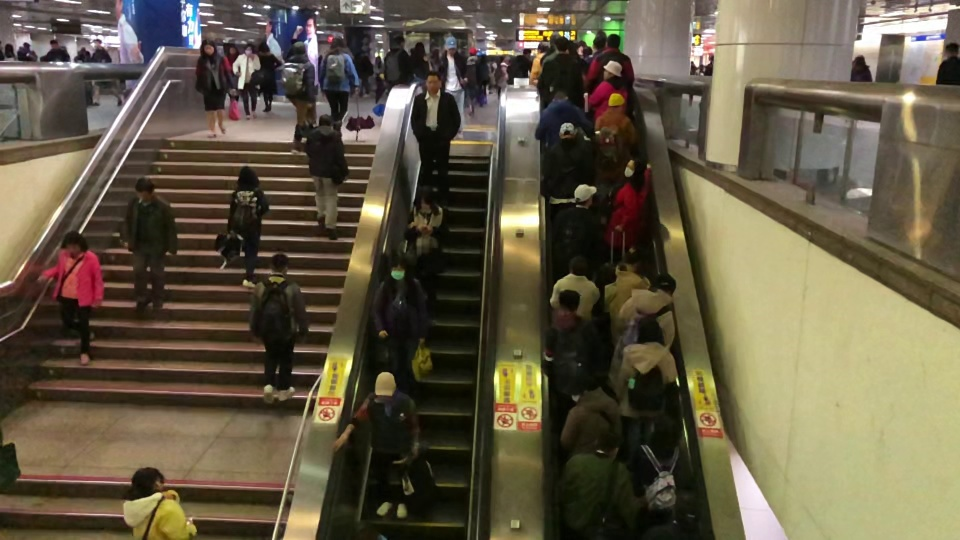person_head: (128, 465, 165, 494), (673, 490, 703, 524), (648, 413, 679, 439), (372, 370, 398, 400), (635, 316, 662, 344), (386, 249, 409, 279), (650, 270, 676, 294), (572, 183, 598, 206), (133, 176, 156, 201), (558, 289, 580, 313), (236, 164, 259, 186), (580, 368, 601, 391), (62, 231, 86, 251), (414, 185, 433, 210), (270, 252, 289, 275), (623, 157, 644, 177), (425, 69, 442, 93), (601, 60, 622, 79), (630, 250, 649, 271), (569, 255, 587, 276), (607, 92, 625, 109), (559, 122, 576, 139), (201, 38, 215, 57), (554, 36, 568, 54), (290, 40, 306, 55), (317, 112, 332, 127), (606, 34, 621, 49), (592, 36, 606, 51), (943, 42, 958, 56), (444, 36, 456, 53), (330, 34, 344, 48), (391, 34, 405, 48), (551, 88, 566, 101), (852, 54, 865, 67), (413, 41, 424, 56), (581, 45, 592, 57), (258, 43, 269, 54), (243, 43, 253, 55), (521, 47, 531, 57), (50, 38, 59, 49), (537, 43, 548, 52), (467, 46, 475, 57), (94, 39, 103, 48), (229, 46, 236, 54), (690, 61, 693, 64)
person_vbox: (334, 370, 420, 522), (247, 252, 309, 407), (39, 230, 106, 368), (613, 315, 678, 453), (607, 271, 677, 396), (117, 176, 178, 317), (371, 248, 427, 396), (409, 69, 461, 201), (406, 185, 450, 327), (542, 289, 597, 400), (303, 113, 349, 242), (631, 414, 688, 517), (122, 466, 197, 540), (225, 164, 269, 290), (558, 366, 621, 450), (594, 93, 639, 204), (603, 156, 652, 252), (604, 249, 652, 343), (281, 41, 318, 156), (543, 122, 591, 208), (194, 38, 235, 136), (553, 183, 603, 259), (319, 35, 361, 121), (535, 87, 594, 147), (548, 254, 600, 320), (438, 37, 469, 140), (538, 36, 583, 97), (583, 33, 634, 86), (583, 60, 628, 120), (231, 42, 262, 119), (91, 39, 122, 109), (258, 42, 281, 112), (383, 34, 413, 87), (936, 42, 960, 85), (412, 41, 434, 78), (467, 46, 478, 120), (508, 47, 531, 79), (530, 42, 549, 78), (850, 54, 874, 82), (47, 41, 70, 63), (689, 58, 696, 108)
